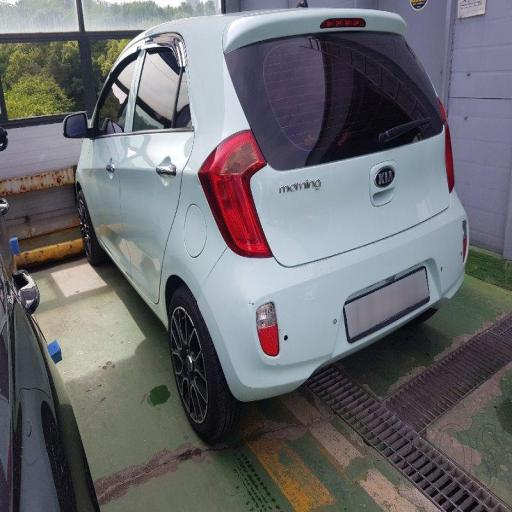scratch: (273, 69, 455, 163)
